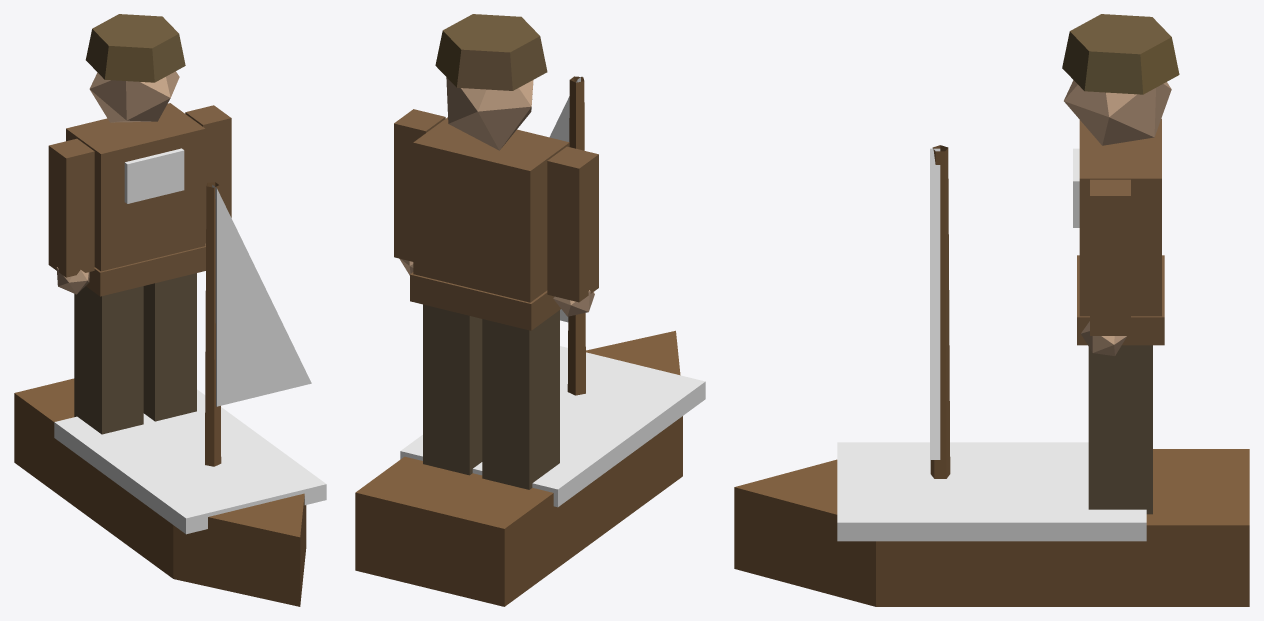
File: Civilian Water.glb
3 renders of one model, left to right at view 1: azimuth 30°, elevation 25°; view 2: azimuth 150°, elevation 25°; view 3: azimuth 270°, elevation 25°, orthographic. The views are drawn at different scales.
Parts seen in each view (by area): view 1: Units_Civilian Water; view 2: Units_Civilian Water; view 3: Units_Civilian Water.
Boxes of the visible parts, <box> form: Units_Civilian Water: <box>14,14,326,606</box>; Units_Civilian Water: <box>355,14,705,606</box>; Units_Civilian Water: <box>734,14,1249,606</box>.
Size of the model in its own units: 0.0939 by 0.229 by 0.2.
